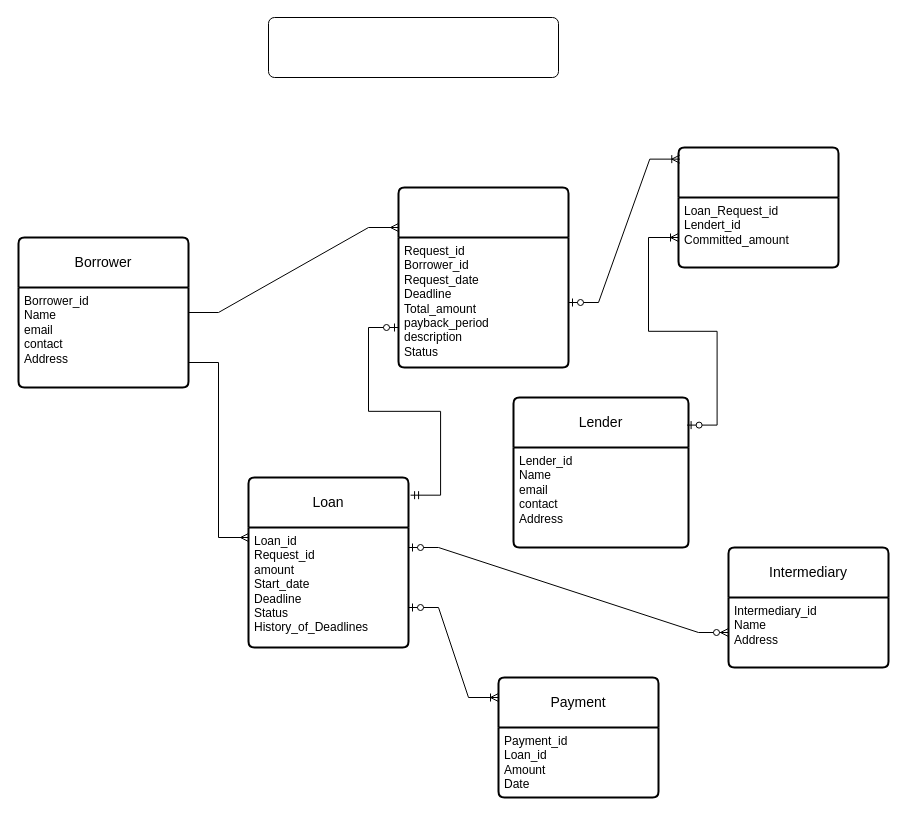
The diagram is 906 pixels wide and 816 high, and some of its shapes have lost their labels. Each missing label, with the box of its shape:
Loan request: (397, 186, 569, 368)
Loan_commitment: (677, 146, 839, 268)
Micro Loan Management System ER-Model: (268, 16, 558, 78)
